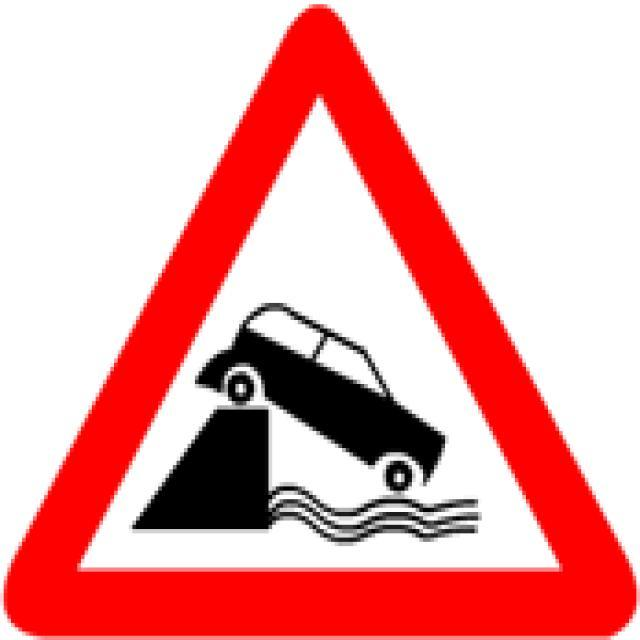quay side or river bank: (23, 19, 620, 618)
